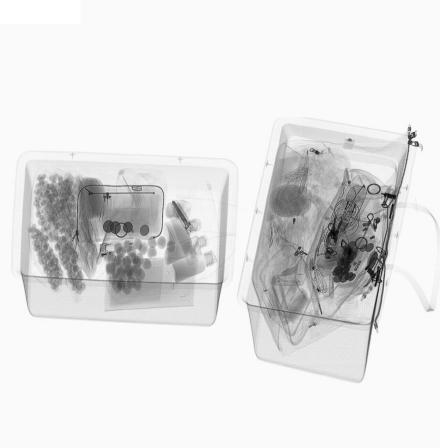Lighter: (103, 191, 112, 229)
